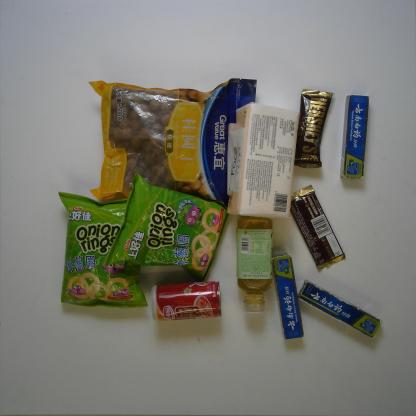Canned Food: (149, 281, 224, 323)
Chocolate: (288, 183, 347, 273), (294, 86, 336, 171)
Dried Food: (83, 73, 260, 211)
Drink: (232, 213, 275, 317)
Personal Hygiene: (295, 276, 384, 340), (270, 252, 306, 342), (338, 92, 371, 182)
Puffed Food: (101, 170, 231, 285), (53, 188, 150, 312)
Tissue: (223, 100, 303, 222)
